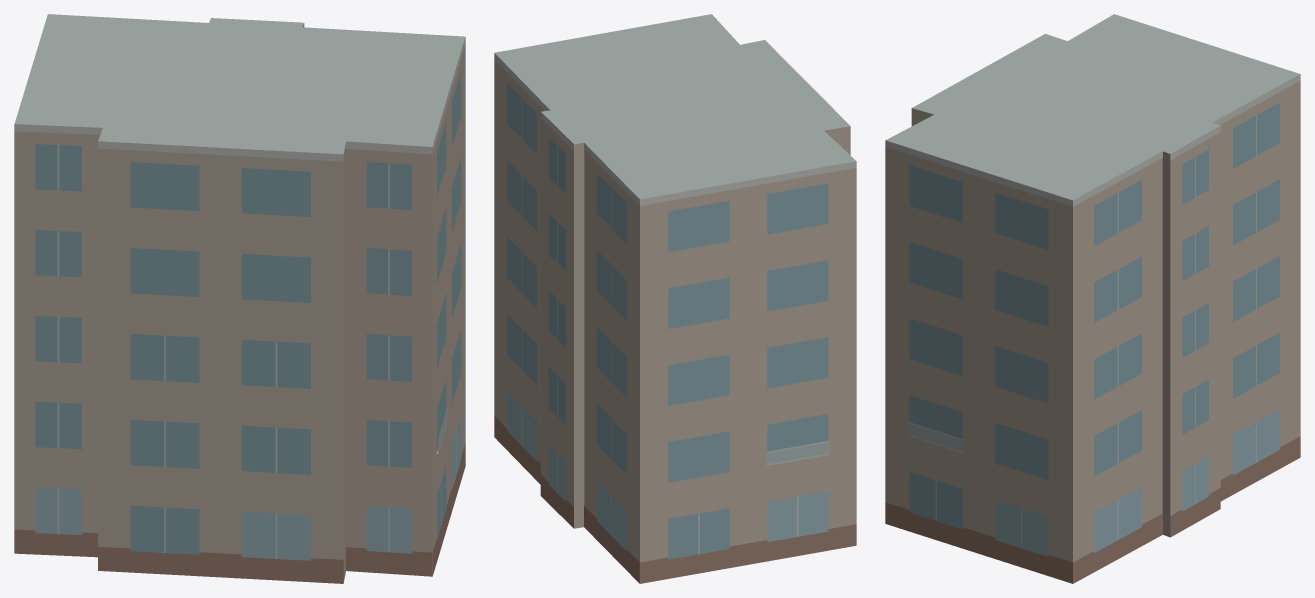
File: survey-upis-32641706.glb
3 views of the same model, side by side, from view 1: azimuth 30°, elevation 25°; view 2: azimuth 150°, elevation 25°; view 3: azimuth 270°, elevation 25° (orthographic). The views are drawn at different scales.
Parts seen in each view (by area): view 1: survey-upis-32641706.tmp; view 2: survey-upis-32641706.tmp; view 3: survey-upis-32641706.tmp.
Boxes of the visible parts, left/top/right/bottom form: survey-upis-32641706.tmp: left=14, top=14, right=465, bottom=583; survey-upis-32641706.tmp: left=494, top=14, right=856, bottom=583; survey-upis-32641706.tmp: left=885, top=14, right=1300, bottom=583.
Bounding box in the file's own units: 15.02 × 14.4 × 14.14.
